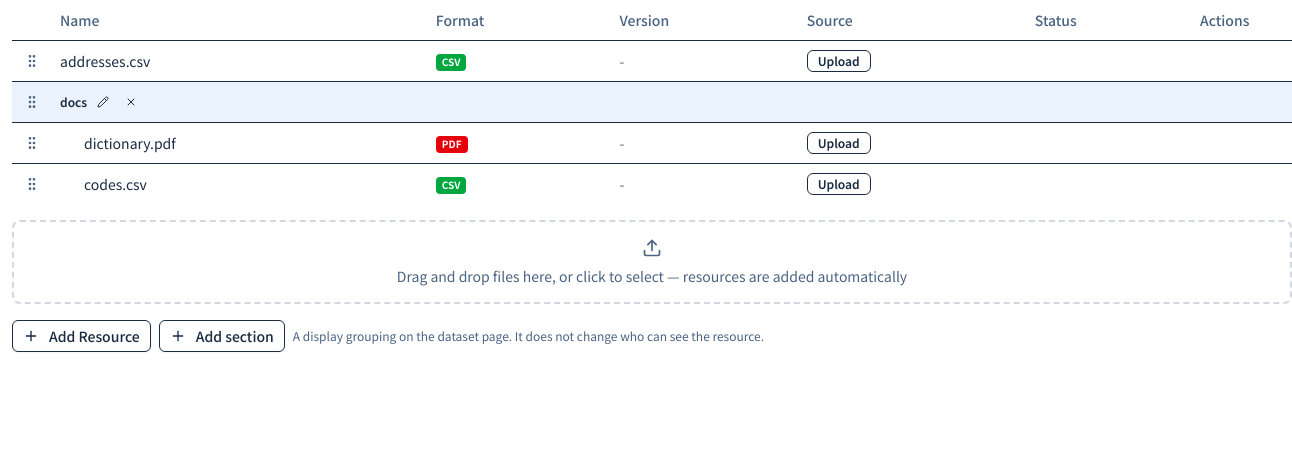
Scenario: ResourceList sections › should hold a section with no members without saving anything
This screenshot has width=1292, height=451.
Click the button "Add section": point(222, 336) 159,320 -> 285,352
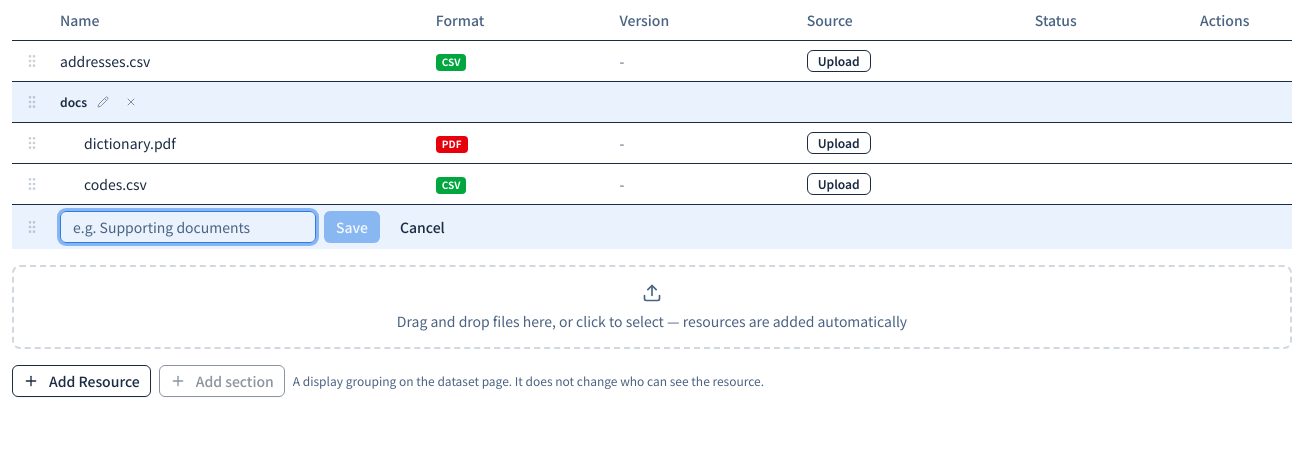
In the field named "Section name": point(188, 226) 60,210 -> 316,242, type "raw data"
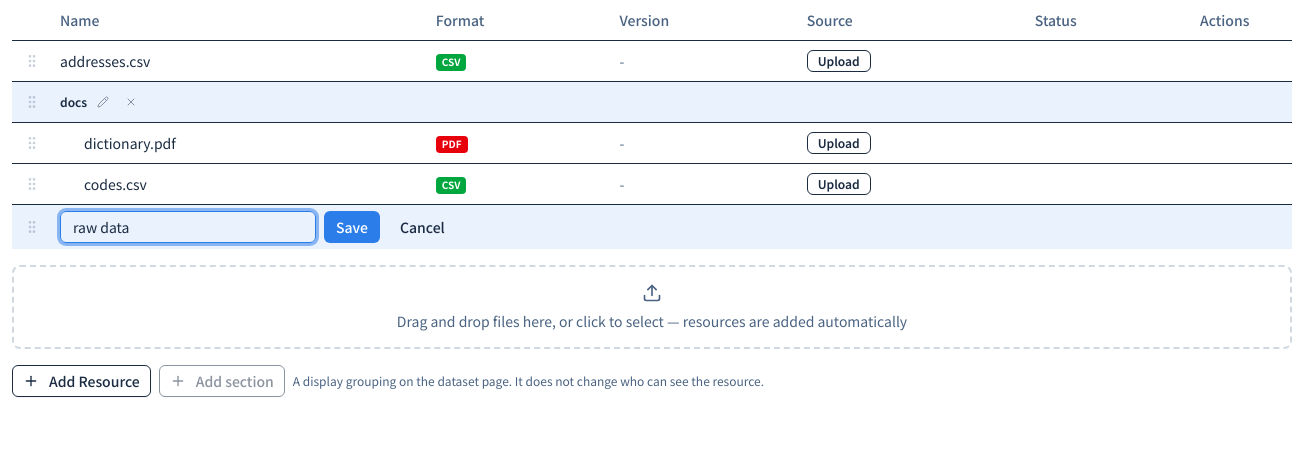
Click the button "Save": point(352, 226) 324,210 -> 380,242
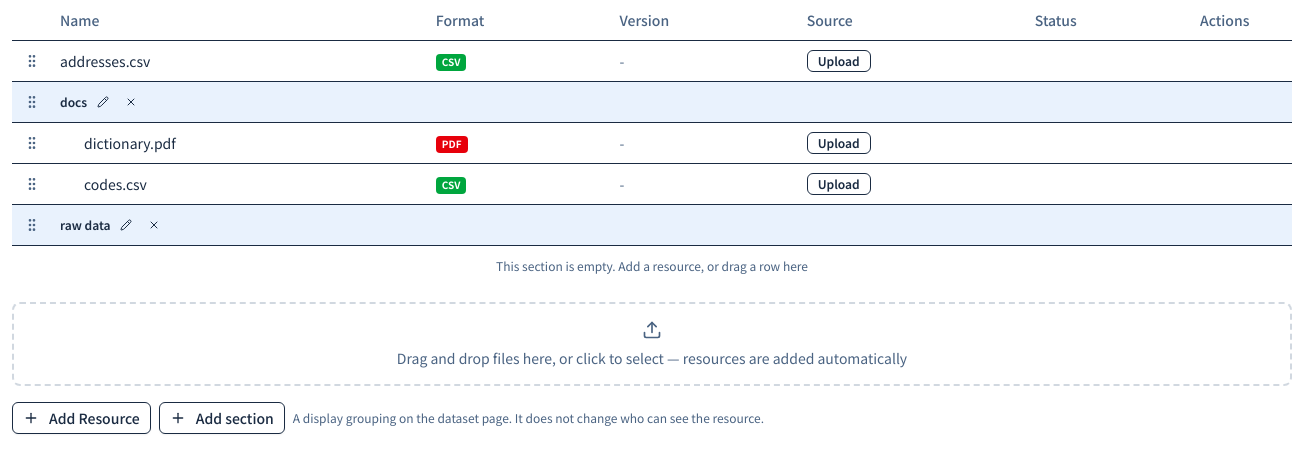
Check: the text "raw data" is shown, box 60,216 -> 110,232
Check: the text "This section is empty. Add a resource, or drag a row here" is shown, box 12,245 -> 1291,286
